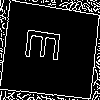E: (25, 26, 70, 65)
